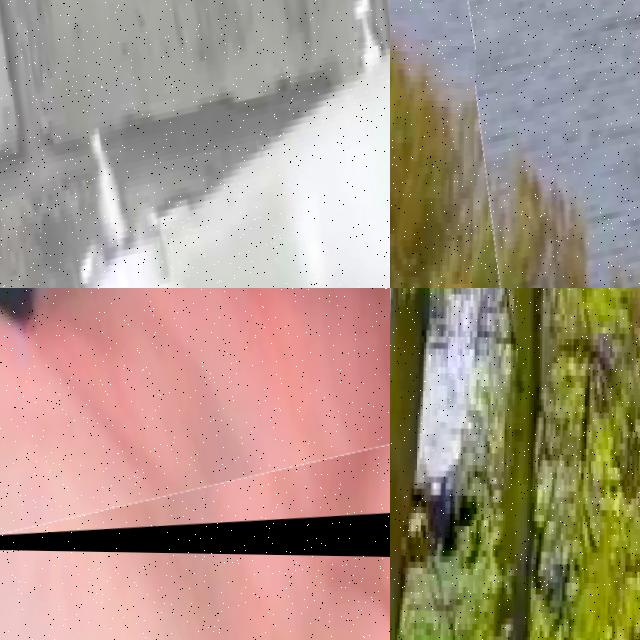drone: (0, 0, 390, 288), (0, 288, 390, 557), (469, 0, 640, 288)
